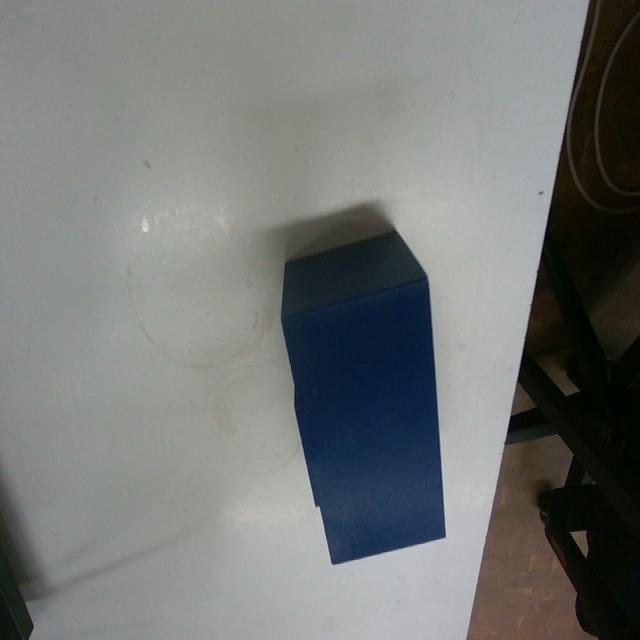Blue Cuboid: (278, 224, 448, 565)
